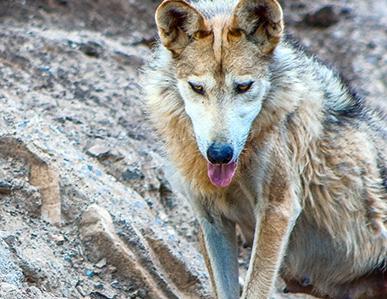Lobo: (139, 4, 344, 277)
